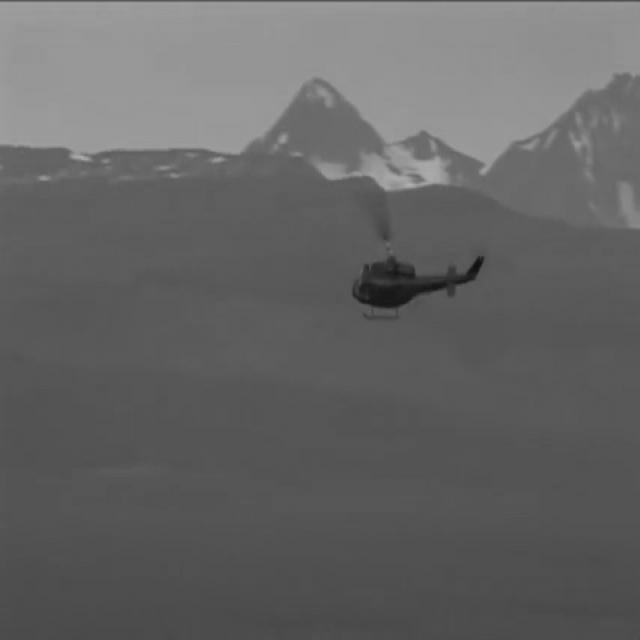helikopter: (331, 221, 500, 331)
